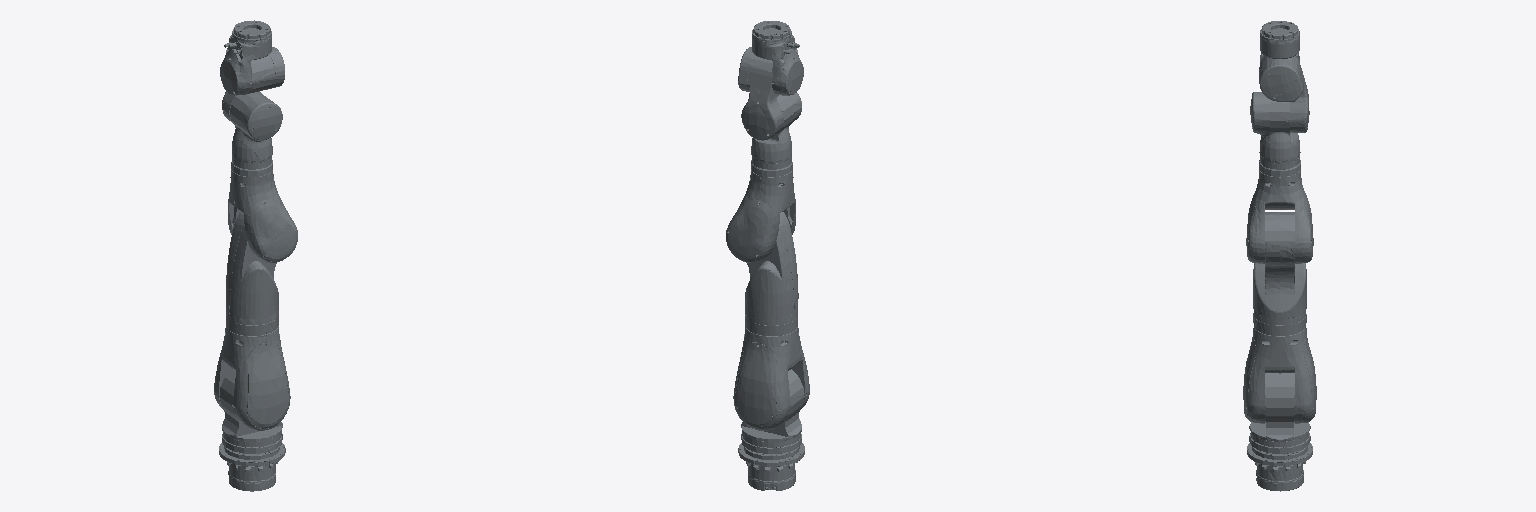
robot.urdf — 1.0.20032582-BR-R73P-L 0715:
<?xml version="1.0" encoding="utf-8"?>
<!-- This URDF was automatically created by TianGong URDF Exporter! -->
<robot
  name="1.0.20032582-BR-R73P-L 0715">
  <link
    name="base_link">
    <inertial>
      <origin
        xyz="-0.00019840423122694 -7.03249856599183E-05 0.00400030340741049"
        rpy="0 0 0" />
      <mass
        value="0.0849886456961704" />
      <inertia
        ixx="0.000109288715168861"
        ixy="-1.23153591744714E-07"
        ixz="-4.46522693256621E-10"
        iyy="0.000109862082585243"
        iyz="-4.25354694998035E-09"
        izz="0.000218250731859844" />
    </inertial>
    <visual>
      <origin
        xyz="-7.39800424968909E-20 9.09432713923882E-19 0.008"
        rpy="1.57079632679489 7.66731712220317E-13 -0.000534126373314052" />
      <geometry>
        <mesh
          filename="../meshes/base_link.STL" />
      </geometry>
      <material
        name="6061-T6">
        <color
          rgba="0.506983280181885 0.531564235687256 0.550000011920929 1" />
      </material>
    </visual>
    <collision>
      <origin
        xyz="-7.39800424968909E-20 9.09432713923882E-19 0.008"
        rpy="1.57079632679489 7.66731712220317E-13 -0.000534126373314052" />
      <geometry>
        <mesh
          filename="../meshes/base_link.STL" />
      </geometry>
    </collision>
  </link>
  <link
    name="J0_Link">
    <inertial>
      <origin
        xyz="4.69776733131665E-05 -5.89601553031426E-05 -0.0125019750059011"
        rpy="0 0 0" />
      <mass
        value="1.40747906319724" />
      <inertia
        ixx="0.00171449261552326"
        ixy="-9.66419698717935E-07"
        ixz="2.13175430413167E-06"
        iyy="0.00171490597006701"
        iyz="-4.00268959981372E-06"
        izz="0.00120580867073051" />
    </inertial>
    <visual>
      <origin
        xyz="0 0 0"
        rpy="1.57079632679489 7.66731712220317E-13 -0.000534126373314052" />
      <geometry>
        <mesh
          filename="../meshes/J0_Link.STL" />
      </geometry>
      <material
        name="6061-T6">
        <color
          rgba="0.506983280181885 0.531564235687256 0.550000011920929 1" />
      </material>
    </visual>
    <collision>
      <origin
        xyz="0 0 0"
        rpy="1.57079632679489 7.66731712220317E-13 -0.000534126373314052" />
      <geometry>
        <mesh
          filename="../meshes/J0_Link.STL" />
      </geometry>
    </collision>
  </link>
  <joint
    name="J0"
    type="fixed">
    <origin
      xyz="0 0 0.008"
      rpy="0 0 0" />
    <parent
      link="base_link" />
    <child
      link="J0_Link" />
    <axis
      xyz="0 0 0" />
  </joint>
  <link
    name="J1_Link">
    <inertial>
      <origin
        xyz="2.5807584969936E-06 2.62346374179124E-06 -0.0172500281488071"
        rpy="0 0 0" />
      <mass
        value="1.47297386882255" />
      <inertia
        ixx="0.00229632762557807"
        ixy="4.21206022031636E-08"
        ixz="1.98206820376058E-08"
        iyy="0.00288960579561278"
        iyz="1.58139082237886E-07"
        izz="0.00147816397659116" />
    </inertial>
    <visual>
      <origin
        xyz="-1.10518720558436E-11 -1.86027034158584E-15 -0.102"
        rpy="1.57079632679489 7.6804572901254E-13 1.45629765778333E-23" />
      <geometry>
        <mesh
          filename="../meshes/J1_Link.STL" />
      </geometry>
      <material
        name="6061-T6">
        <color
          rgba="0.506983280181885 0.531564235687256 0.550000011920929 1" />
      </material>
    </visual>
    <collision>
      <origin
        xyz="-1.10518720558436E-11 -1.86027034158584E-15 -0.102"
        rpy="1.57079632679489 7.6804572901254E-13 1.45629765778333E-23" />
      <geometry>
        <mesh
          filename="../meshes/J1_Link.STL" />
      </geometry>
    </collision>
  </link>
  <joint
    name="J1"
    type="revolute">
    <origin
      xyz="0 0 0.102"
      rpy="0 0 -0.00053413" />
    <parent
      link="J0_Link" />
    <child
      link="J1_Link" />
    <axis
      xyz="0 0 1" />
    <limit
      lower="-3.1416"
      upper="3.1416"
      effort="120"
      velocity="3.1416" />
  </joint>
  <link
    name="J2_Link">
    <inertial>
      <origin
        xyz="-2.54102004944639E-06 -0.0452674922945121 4.82546029985069E-05"
        rpy="0 0 0" />
      <mass
        value="3.02756594440556" />
      <inertia
        ixx="0.0107828576705499"
        ixy="-2.59716650045395E-06"
        ixz="4.49835322705798E-06"
        iyy="0.0054115747343492"
        iyz="-5.28200126063287E-05"
        izz="0.00893813177400422" />
    </inertial>
    <visual>
      <origin
        xyz="-1.09963057402145E-11 0.102000000000204 -5.10313240738077E-16"
        rpy="3.14159265358979 5.74681657987473E-15 2.27396389478746E-13" />
      <geometry>
        <mesh
          filename="../meshes/J2_Link.STL" />
      </geometry>
      <material
        name="6061-T6">
        <color
          rgba="0.506983280181885 0.531564235687256 0.550000011920929 1" />
      </material>
    </visual>
    <collision>
      <origin
        xyz="-1.09963057402145E-11 0.102000000000204 -5.10313240738077E-16"
        rpy="3.14159265358979 5.74681657987473E-15 2.27396389478746E-13" />
      <geometry>
        <mesh
          filename="../meshes/J2_Link.STL" />
      </geometry>
    </collision>
  </link>
  <joint
    name="J2"
    type="revolute">
    <origin
      xyz="0 0 0"
      rpy="-1.5708 0 0" />
    <parent
      link="J1_Link" />
    <child
      link="J2_Link" />
    <axis
      xyz="0 0 1" />
    <limit
      lower="-1.745"
      upper="1.745"
      effort="120"
      velocity="3.1416" />
  </joint>
  <link
    name="J3_Link">
    <inertial>
      <origin
        xyz="0.00459568867900225 -7.11579393768237E-07 -0.0785732132928111"
        rpy="0 0 0" />
      <mass
        value="2.97888928341343" />
      <inertia
        ixx="0.012126006758747"
        ixy="-2.19796335883662E-07"
        ixz="-0.00139256232324466"
        iyy="0.0126018228784289"
        iyz="1.91957374586263E-07"
        izz="0.00300180656112966" />
    </inertial>
    <visual>
      <origin
        xyz="-1.08886451344293E-11 3.54826685617959E-13 -0.405500000000159"
        rpy="1.57079632679741 -1.42772634535195E-13 -5.43372096449557E-13" />
      <geometry>
        <mesh
          filename="../meshes/J3_Link.STL" />
      </geometry>
      <material
        name="6061-T6">
        <color
          rgba="0.506983280181885 0.531564235687256 0.550000011920929 1" />
      </material>
    </visual>
    <collision>
      <origin
        xyz="-1.08886451344293E-11 3.54826685617959E-13 -0.405500000000159"
        rpy="1.57079632679741 -1.42772634535195E-13 -5.43372096449557E-13" />
      <geometry>
        <mesh
          filename="../meshes/J3_Link.STL" />
      </geometry>
    </collision>
  </link>
  <joint
    name="J3"
    type="revolute">
    <origin
      xyz="0 -0.3035 0"
      rpy="1.5708 0 0" />
    <parent
      link="J2_Link" />
    <child
      link="J3_Link" />
    <axis
      xyz="0 0 1" />
    <limit
      lower="-3.1416"
      upper="3.1416"
      effort="60"
      velocity="3.1416" />
  </joint>
  <link
    name="J4_Link">
    <inertial>
      <origin
        xyz="-0.0134728782064502 -0.0489928104791285 0.0051255452295631"
        rpy="0 0 0" />
      <mass
        value="0.928286122566677" />
      <inertia
        ixx="0.00276080516652775"
        ixy="-0.000384614807628976"
        ixz="-6.26780335548294E-05"
        iyy="0.00133232006260208"
        iyz="-0.000239876154164756"
        izz="0.00237960909006586" />
    </inertial>
    <visual>
      <origin
        xyz="-0.0225000000103619 0.405500000000187 -4.82690087687542E-12"
        rpy="-3.141592653588 5.45018565868693E-13 -1.38490987341283E-12" />
      <geometry>
        <mesh
          filename="../meshes/J4_Link.STL" />
      </geometry>
      <material
        name="6061-T6">
        <color
          rgba="0.506983280181885 0.531564235687256 0.550000011920929 1" />
      </material>
    </visual>
    <collision>
      <origin
        xyz="-0.0225000000103619 0.405500000000187 -4.82690087687542E-12"
        rpy="-3.141592653588 5.45018565868693E-13 -1.38490987341283E-12" />
      <geometry>
        <mesh
          filename="../meshes/J4_Link.STL" />
      </geometry>
    </collision>
  </link>
  <joint
    name="J4"
    type="revolute">
    <origin
      xyz="0.0225 0 0"
      rpy="-1.5708 0 0" />
    <parent
      link="J3_Link" />
    <child
      link="J4_Link" />
    <axis
      xyz="0 0 1" />
    <limit
      lower="-1.134"
      upper="2.705"
      effort="60"
      velocity="3.1416" />
  </joint>
  <link
    name="J5_Link">
    <inertial>
      <origin
        xyz="1.7587915843383E-06 -0.00984002311944902 -0.0305027044375619"
        rpy="0 0 0" />
      <mass
        value="1.0729122246467" />
      <inertia
        ixx="0.0019196654951274"
        ixy="1.23782156390585E-07"
        ixz="-2.76877802896609E-07"
        iyy="0.00186069742780151"
        iyz="0.000319450215715449"
        izz="0.000705437975946457" />
    </inertial>
    <visual>
      <origin
        xyz="-1.10607390984892E-11 -7.73430198699603E-12 -0.632000000001169"
        rpy="1.5707963267913 6.20521971479715E-13 -5.98868047166357E-12" />
      <geometry>
        <mesh
          filename="../meshes/J5_Link.STL" />
      </geometry>
      <material
        name="6061-T6">
        <color
          rgba="0.506983280181885 0.531564235687256 0.550000011920929 1" />
      </material>
    </visual>
    <collision>
      <origin
        xyz="-1.10607390984892E-11 -7.73430198699603E-12 -0.632000000001169"
        rpy="1.5707963267913 6.20521971479715E-13 -5.98868047166357E-12" />
      <geometry>
        <mesh
          filename="../meshes/J5_Link.STL" />
      </geometry>
    </collision>
  </link>
  <joint
    name="J5"
    type="revolute">
    <origin
      xyz="-0.0225 -0.2265 0"
      rpy="1.5708 0 0" />
    <parent
      link="J4_Link" />
    <child
      link="J5_Link" />
    <axis
      xyz="0 0 1" />
    <limit
      lower="-3.1416"
      upper="3.1416"
      effort="30"
      velocity="5.236" />
  </joint>
  <link
    name="J6_Link">
    <inertial>
      <origin
        xyz="0.0604147409996487 0.00690492310638375 0.00670639055195821"
        rpy="0 0 0" />
      <mass
        value="0.999793586946328" />
      <inertia
        ixx="0.000871255501576016"
        ixy="-9.61391941990591E-05"
        ixz="0.000346645427543567"
        iyy="0.00150640358301385"
        iyz="4.34257653003723E-05"
        izz="0.00157286135577016" />
    </inertial>
    <visual>
      <origin
        xyz="-0.632000000001264 -1.34975860123888E-13 -1.23008755142961E-11"
        rpy="-3.14159265358797 5.98866529283315E-12 1.57079632677825" />
      <geometry>
        <mesh
          filename="../meshes/J6_Link.STL" />
      </geometry>
      <material
        name="6061-T6">
        <color
          rgba="0.506983280181885 0.531564235687256 0.550000011920929 1" />
      </material>
    </visual>
    <collision>
      <origin
        xyz="-0.632000000001264 -1.34975860123888E-13 -1.23008755142961E-11"
        rpy="-3.14159265358797 5.98866529283315E-12 1.57079632677825" />
      <geometry>
        <mesh
          filename="../meshes/J6_Link.STL" />
      </geometry>
    </collision>
  </link>
  <joint
    name="J6"
    type="revolute">
    <origin
      xyz="0 0 0"
      rpy="-1.5708 -1.5708 0" />
    <parent
      link="J5_Link" />
    <child
      link="J6_Link" />
    <axis
      xyz="0 0 1" />
    <limit
      lower="-1.57"
      upper="1.57"
      effort="30"
      velocity="5.236" />
  </joint>
  <link
    name="J7_Link">
    <inertial>
      <origin
        xyz="0.0364481222489961 2.47009794771513E-07 -0.0141917275731613"
        rpy="0 0 0" />
      <mass
        value="0.33236675363901" />
      <inertia
        ixx="0.000282512931210578"
        ixy="1.67413265217925E-09"
        ixz="-0.000141043299676486"
        iyy="0.000535298109668155"
        iyz="1.19633812789188E-07"
        izz="0.000509753265151522" />
    </inertial>
    <visual>
      <origin
        xyz="-0.707000000002018 1.5174599718869E-10 -2.74692909199893E-09"
        rpy="-1.57079632674831 -1.57079632677719 0" />
      <geometry>
        <mesh
          filename="../meshes/J7_Link.STL" />
      </geometry>
      <material
        name="6061-T6">
        <color
          rgba="0.506983280181885 0.531564235687256 0.550000011920929 1" />
      </material>
    </visual>
    <collision>
      <origin
        xyz="-0.707000000002018 1.5174599718869E-10 -2.74692909199893E-09"
        rpy="-1.57079632674831 -1.57079632677719 0" />
      <geometry>
        <mesh
          filename="../meshes/J7_Link.STL" />
      </geometry>
    </collision>
  </link>
  <joint
    name="J7"
    type="revolute">
    <origin
      xyz="0.075 0 0"
      rpy="-1.5708 0 0" />
    <parent
      link="J6_Link" />
    <child
      link="J7_Link" />
    <axis
      xyz="0 0 1" />
    <limit
      lower="-1.31"
      upper="1.57"
      effort="30"
      velocity="5.235" />
  </joint>
</robot>

--- Facts derived from the render (not from the file) ---
The picture shows the robot from 3 angles, left to right: view 1: azimuth 30°, elevation 25°; view 2: azimuth 150°, elevation 25°; view 3: azimuth 270°, elevation 25°; orthographic projection.
Model 1.0.20032582-BR-R73P-L 0715 with 9 links and 8 joints (7 revolute, 1 fixed), rooted at base_link, posed every joint at zero.
Links seen in each view (by area): view 1: J2_Link, J3_Link, J4_Link, J5_Link, J7_Link, J1_Link, J0_Link, J6_Link, base_link; view 2: J2_Link, J3_Link, J4_Link, J6_Link, J7_Link, J5_Link, J1_Link, J0_Link, base_link; view 3: J3_Link, J2_Link, J4_Link, J1_Link, J5_Link, J6_Link, J0_Link, J7_Link, base_link.
Link boxes in pixels (x1,y1,x2,y2): J2_Link: (214,326,290,430); J3_Link: (226,212,278,335); J4_Link: (228,169,297,262); J5_Link: (230,92,282,176); J7_Link: (220,20,271,95); J1_Link: (219,369,282,453); J0_Link: (224,446,279,491); J6_Link: (222,47,284,122); base_link: (219,443,285,466); J2_Link: (733,326,809,430); J3_Link: (745,212,798,335); J4_Link: (726,170,795,262); J6_Link: (738,47,783,140); J7_Link: (752,21,803,95); J5_Link: (751,93,801,176); J1_Link: (741,369,804,453); J0_Link: (744,446,799,490); base_link: (738,443,804,466); J3_Link: (1253,212,1306,335); J2_Link: (1243,328,1316,423); J4_Link: (1246,170,1313,263); J1_Link: (1249,373,1310,453); J5_Link: (1250,92,1300,176); J6_Link: (1259,56,1309,132); J0_Link: (1252,447,1307,491); J7_Link: (1260,21,1299,61); base_link: (1247,443,1312,466).
Bounding box of the posed robot: 0.1236 × 0.1254 × 0.8525 m (x, y, z).
9 mesh visuals loaded from 9 distinct referenced files (9 binary STL).
